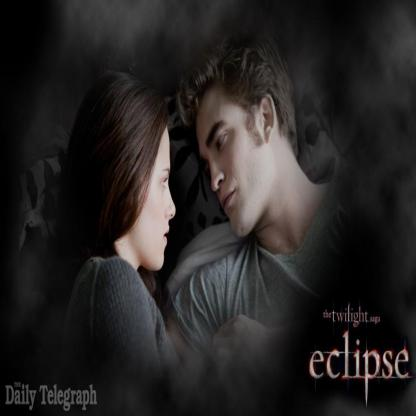face: (192, 88, 266, 237), (134, 120, 178, 273)
